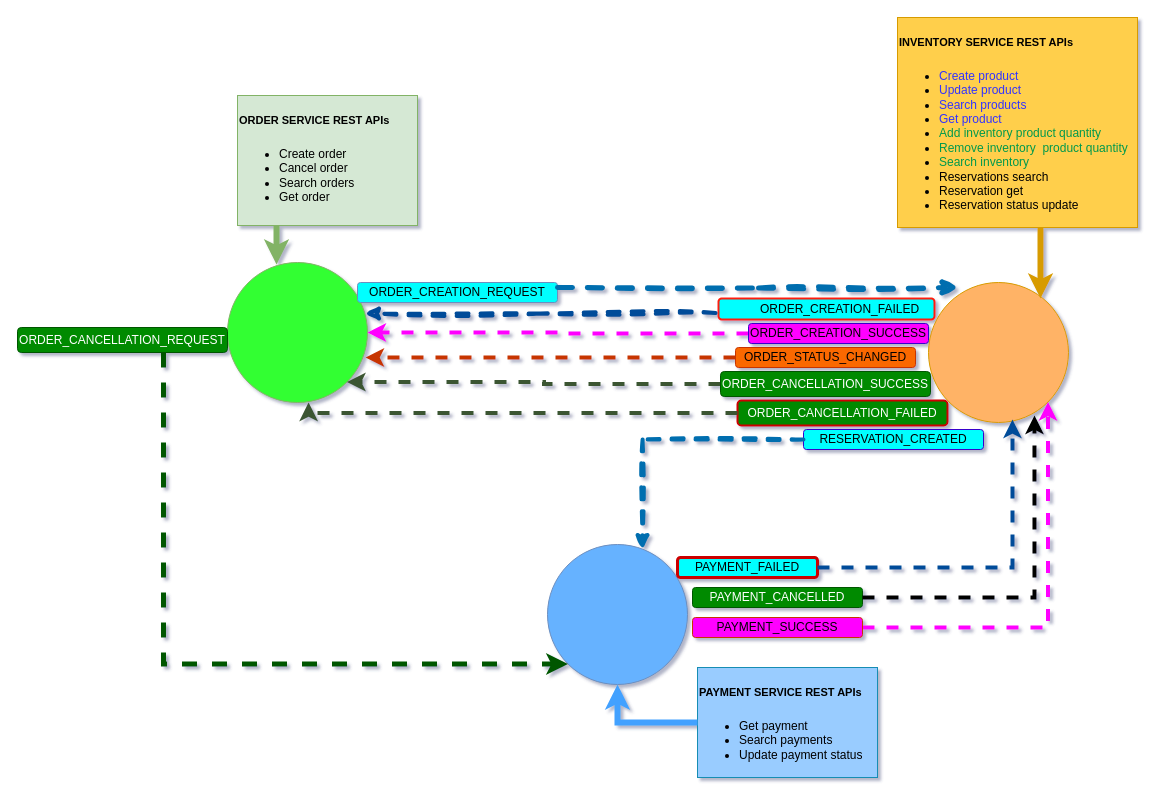
This 1161x804 diagram has some shape labels left out. Here are the shapes that lost their labels. From the top down, the centre of each, then its label:
(x=297, y=332): ORDER SERVISE
(x=998, y=352): INVENTORY SERVICE
(x=617, y=614): PAYMENT SERIVE
